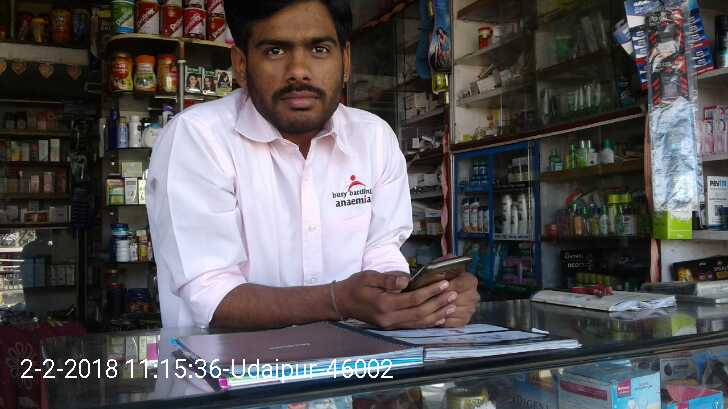vicks: (466, 163, 489, 186)
